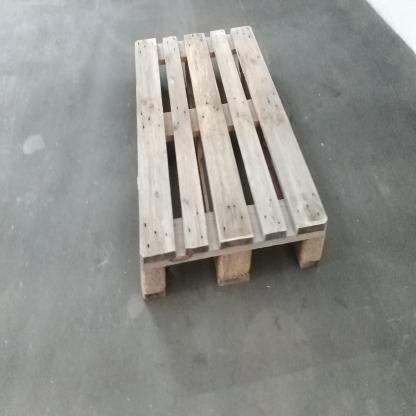BoxFace: (134, 19, 332, 309)
